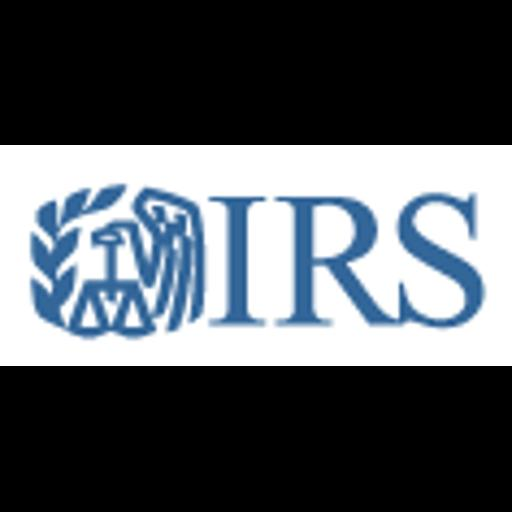IRS: (0, 145, 512, 366)
